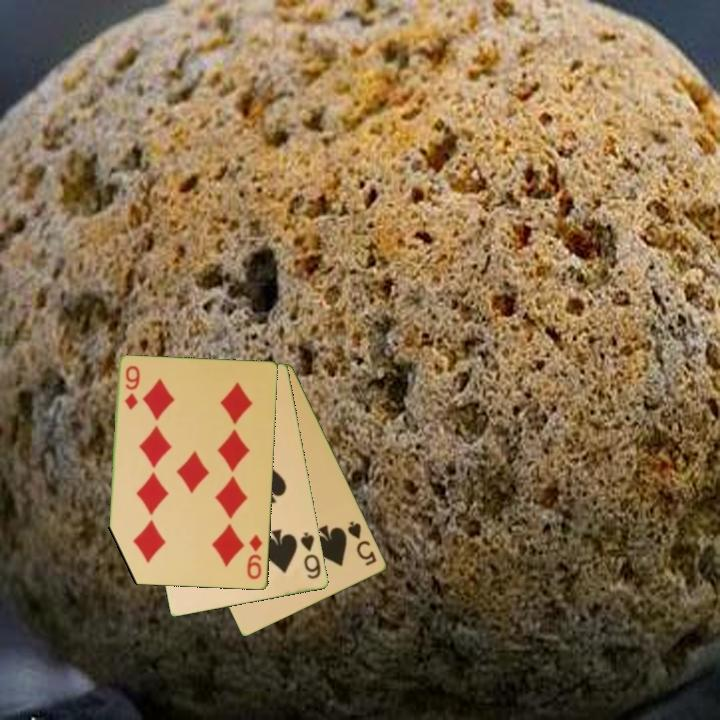5s: (344, 518, 380, 569)
6s: (297, 529, 324, 582)
9d: (244, 531, 265, 582), (122, 363, 142, 413)
